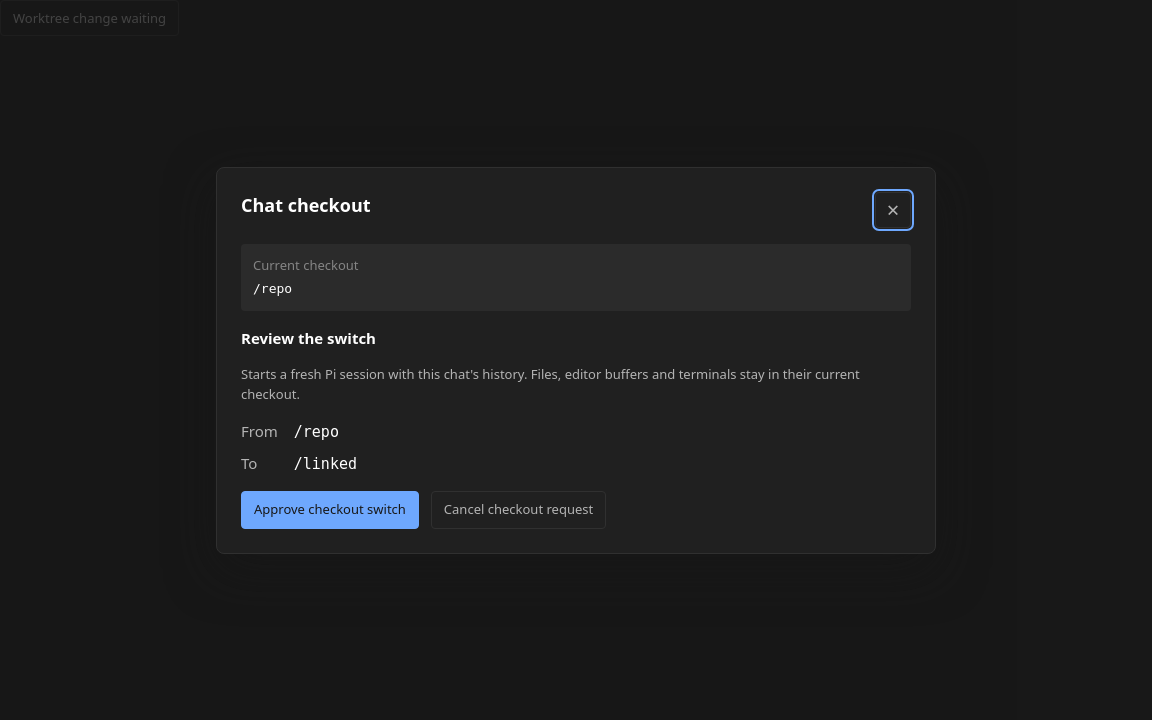
shows refused approval without resending the request or moving context
Step 1. Click the button "Approve checkout switch" → coordinates (330, 510), box 241,491 -> 419,528
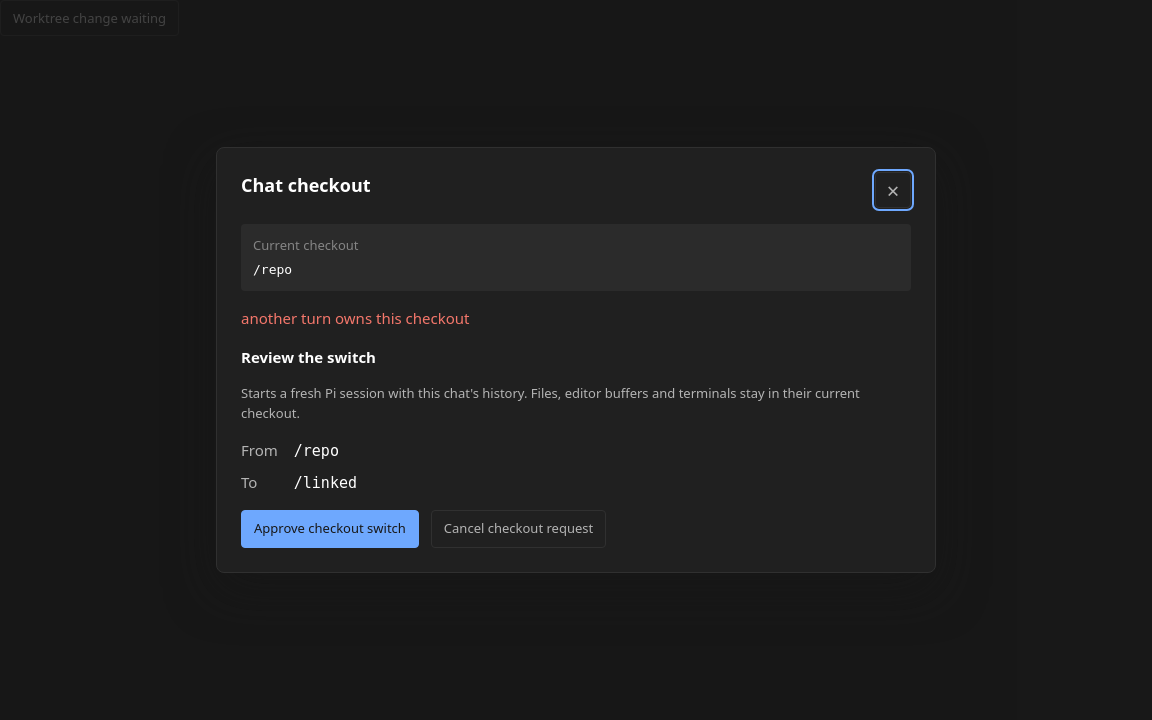
Expected: the message shows "another turn owns", 241,308 -> 470,328
